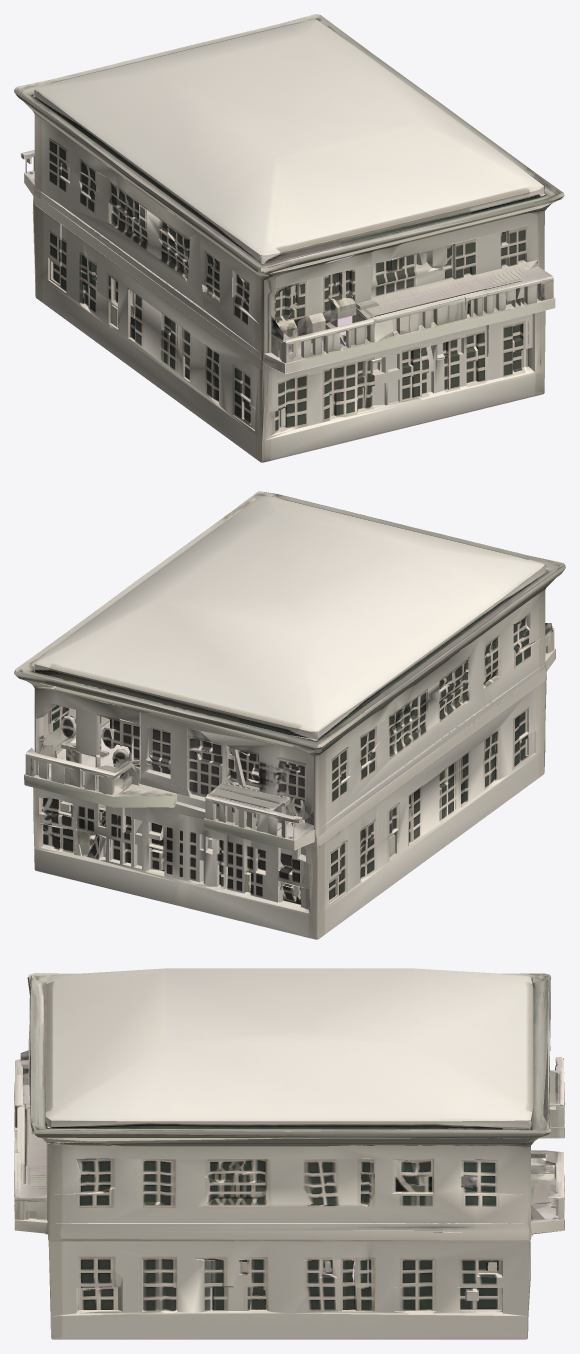
The model's file is placed_bld_556855829.glb.
3 renders of one model, top to bottom at view 1: azimuth 30°, elevation 25°; view 2: azimuth 150°, elevation 25°; view 3: azimuth 270°, elevation 25°, orthographic. The views are drawn at different scales.
Visible parts, largest first — view 1: bld_556855829; view 2: bld_556855829; view 3: bld_556855829.
Boxes of the visible parts, left/top/right/bottom form: bld_556855829: left=14, top=14, right=564, bottom=462; bld_556855829: left=14, top=491, right=565, bottom=939; bld_556855829: left=14, top=968, right=564, bottom=1339.
Bounding box in the file's own units: 8.79 × 6.8 × 13.01.
Materials: 1 (1 with a texture image).
